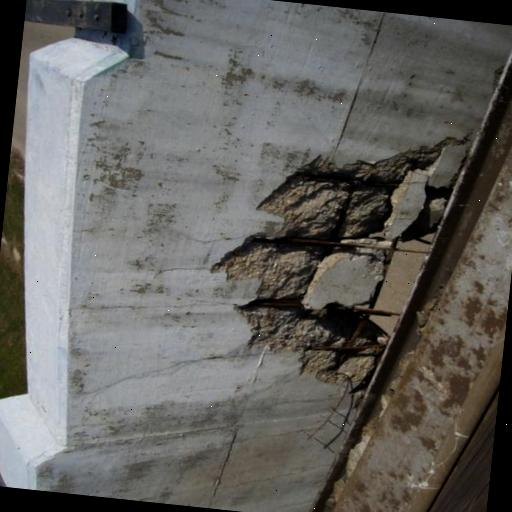spalling: (210, 151, 356, 396)
